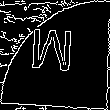M_S: (31, 28, 79, 82)
